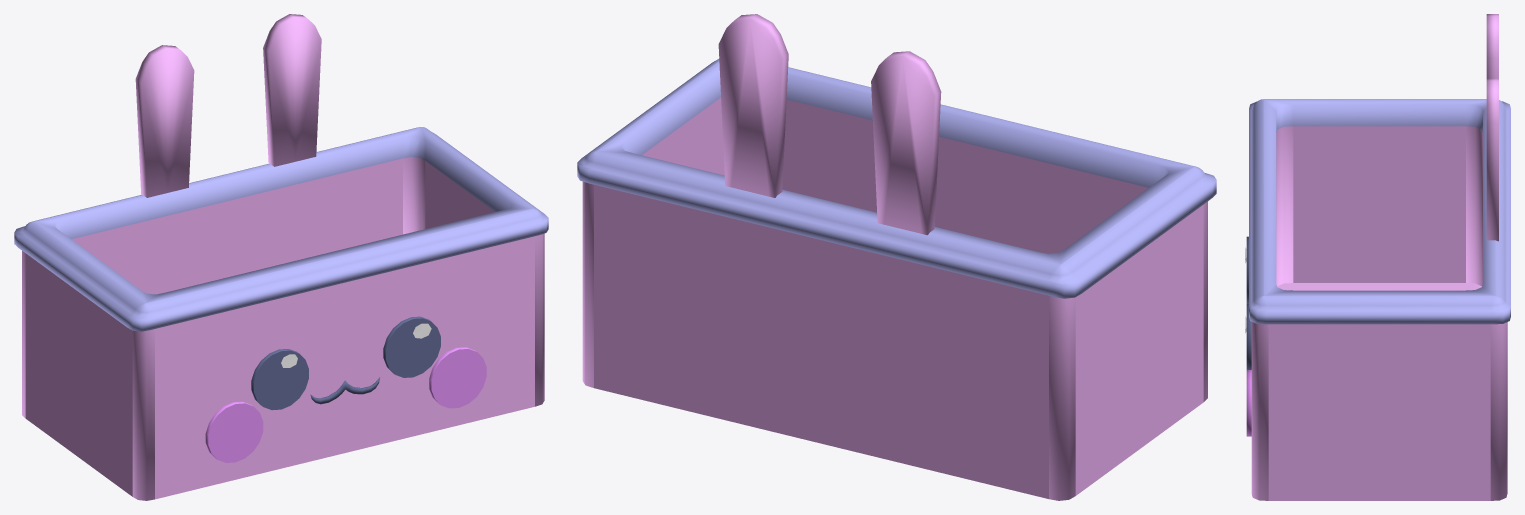
Rendered from LeluLaatikko2.fbx.
The picture shows the model from 3 angles, left to right: view 1: azimuth 30°, elevation 25°; view 2: azimuth 150°, elevation 25°; view 3: azimuth 270°, elevation 25°; orthographic projection. The views are drawn at different scales.
Parts seen in each view (by area): view 1: box; view 2: box; view 3: box.
Boxes of the visible parts, left/top/right/bottom form: box: left=14, top=14, right=548, bottom=500; box: left=577, top=14, right=1216, bottom=500; box: left=1245, top=14, right=1510, bottom=500.
Bounding box in the file's own units: 1.2 × 0.9204 × 0.6355.
